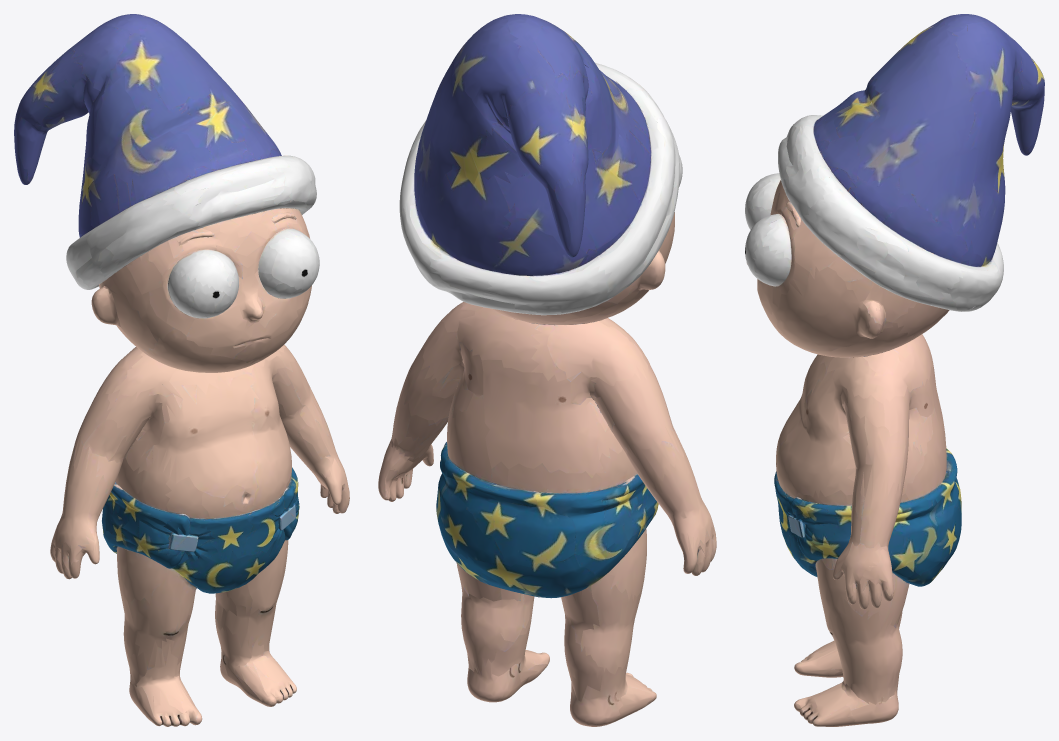
File: babywizard.glb
3 views of the same model, side by side, from view 1: azimuth 30°, elevation 25°; view 2: azimuth 150°, elevation 25°; view 3: azimuth 270°, elevation 25° (orthographic). The views are drawn at different scales.
Size of the model in its own units: 0.873 by 1.9 by 0.7768.
Materials: 1 (1 with a texture image).
